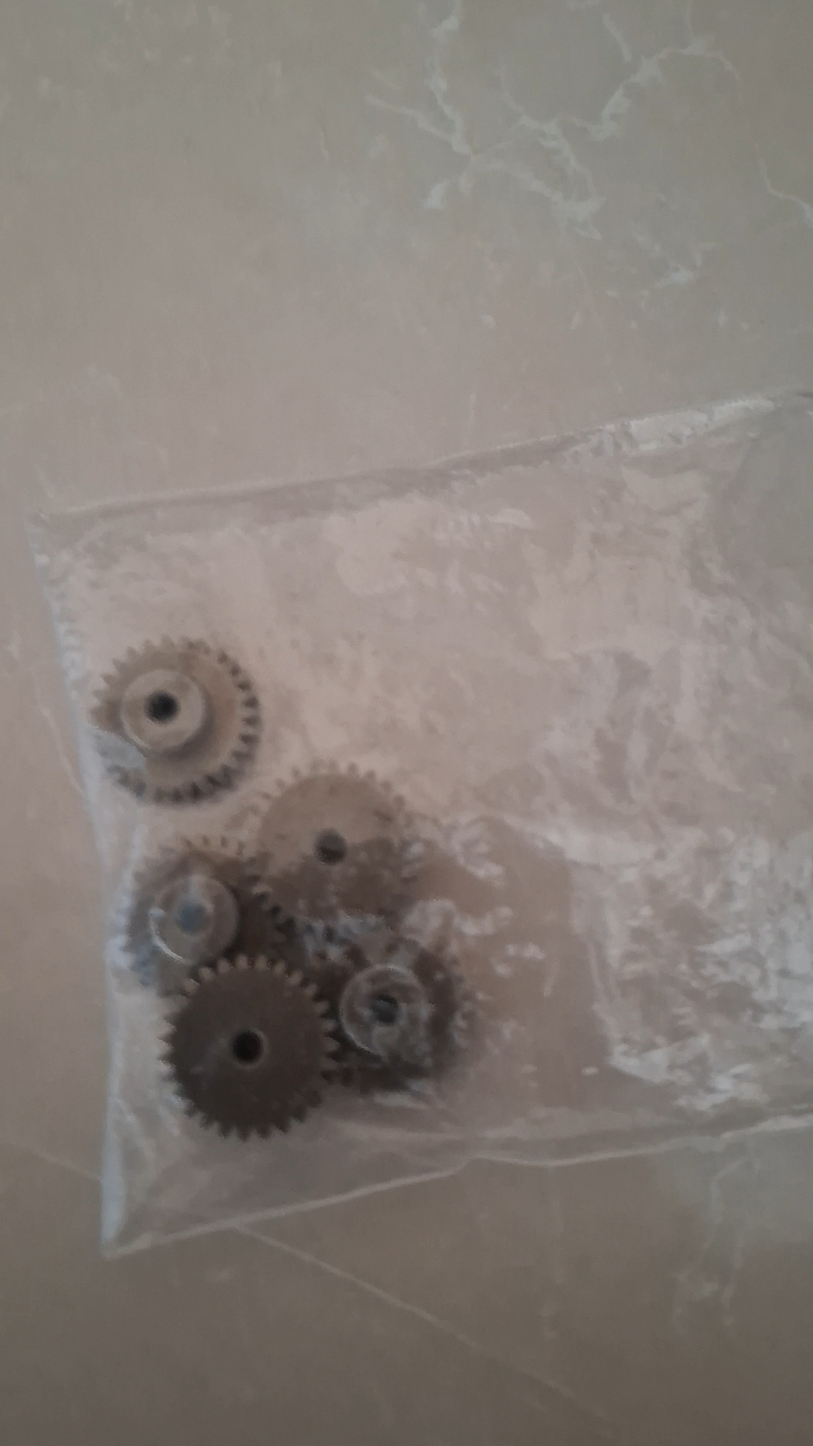spur gear: (165, 955, 338, 1139), (117, 837, 301, 993), (90, 639, 259, 803), (307, 929, 471, 1089), (258, 767, 416, 921)
